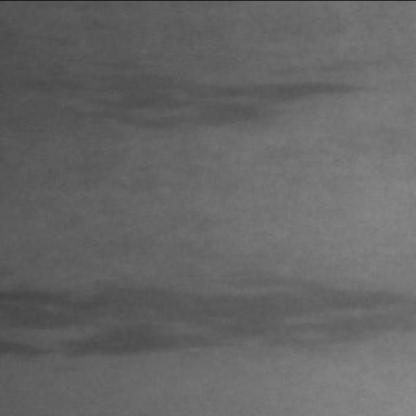inclusion: (0, 268, 412, 362), (10, 50, 398, 137)
